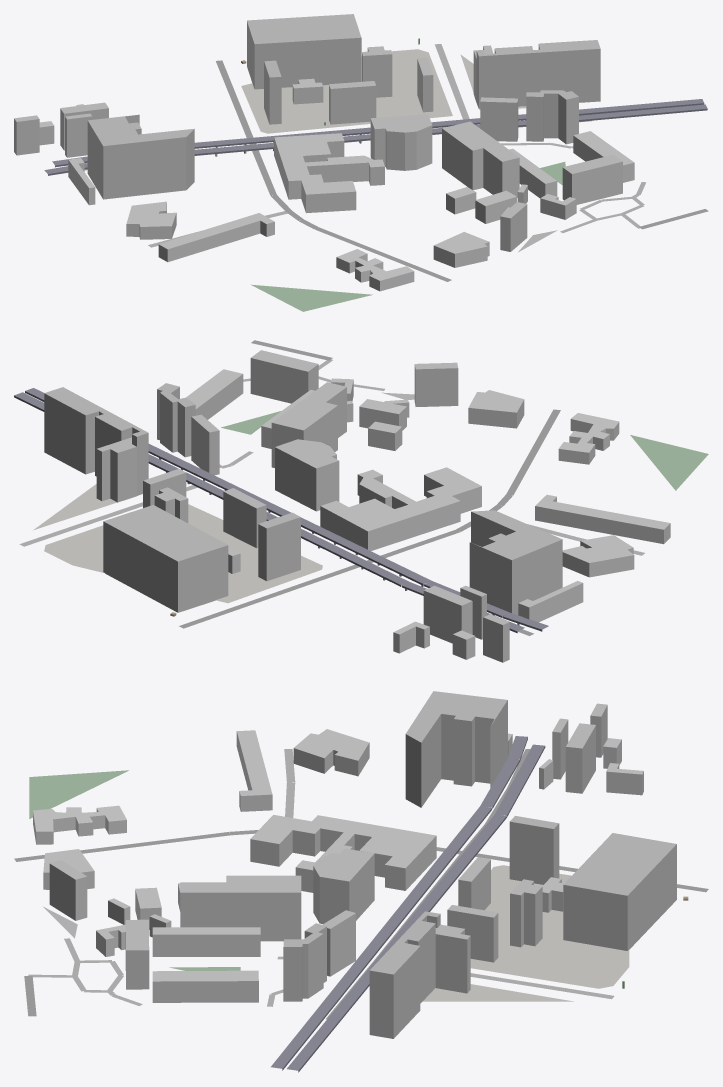
3 renders of one model, top to bottom at view 1: azimuth 30°, elevation 25°; view 2: azimuth 150°, elevation 25°; view 3: azimuth 270°, elevation 25°, orthographic. The views are drawn at different scales.
Size of the model in its own units: 666 by 62.19 by 579.
